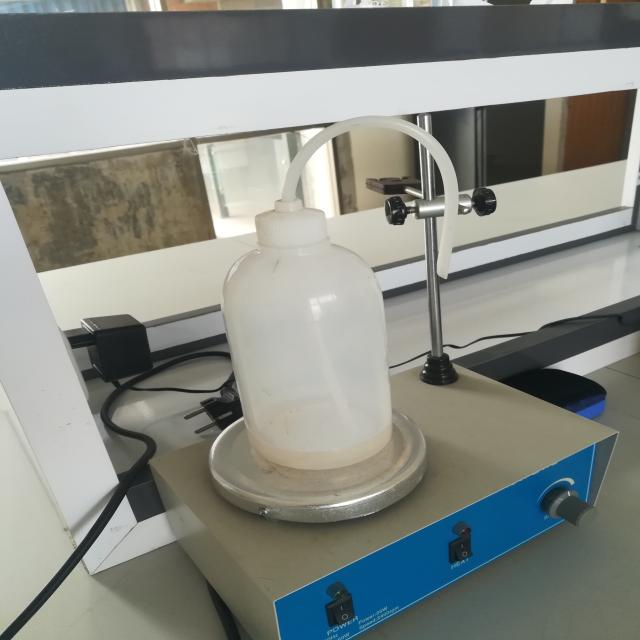Wash_Bottle: (162, 86, 504, 501)
